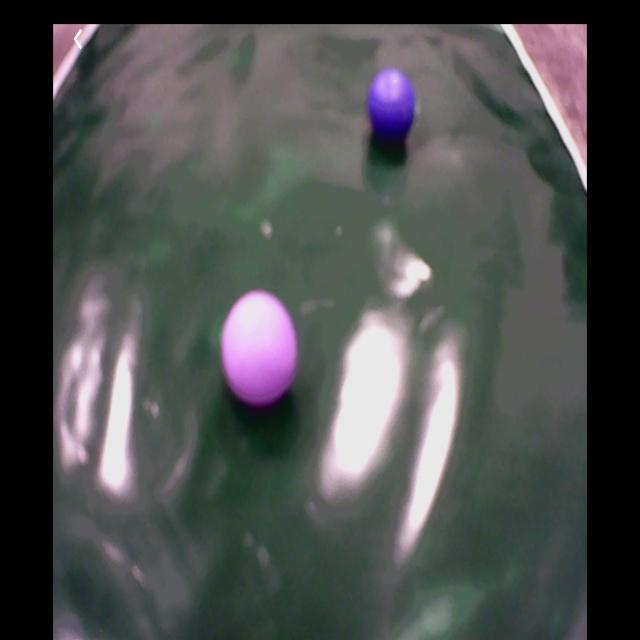ball: (223, 292, 299, 412), (368, 71, 414, 141)
